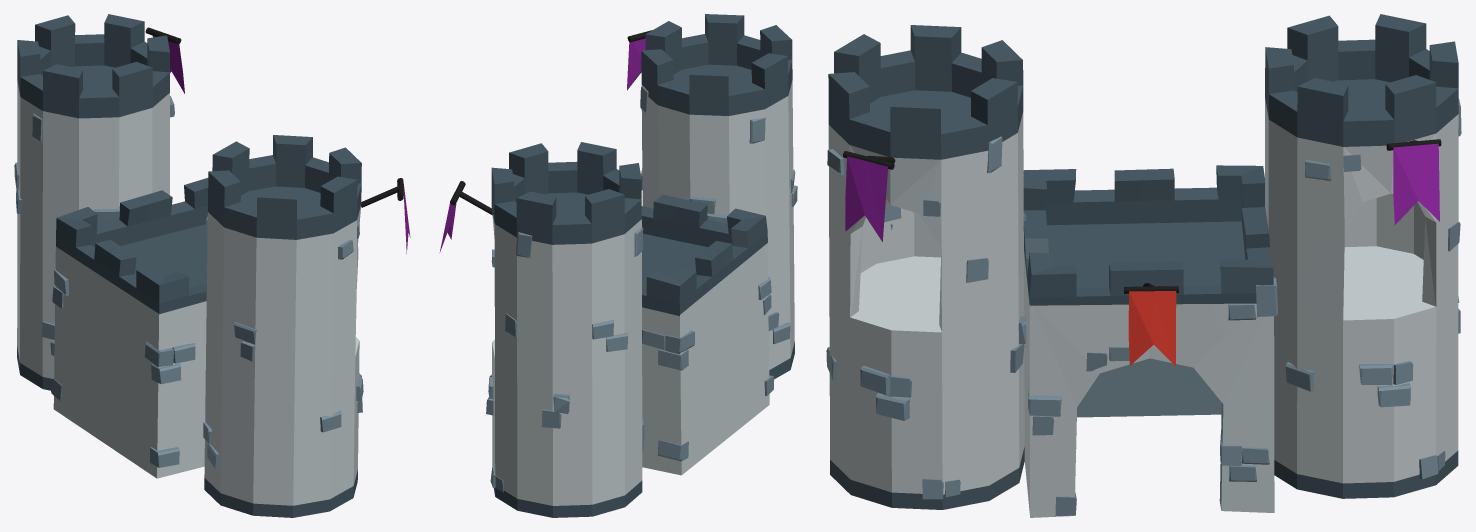
File: tower_lvl2.fbx
3 renders of one model, left to right at view 1: azimuth 30°, elevation 25°; view 2: azimuth 150°, elevation 25°; view 3: azimuth 270°, elevation 25°, orthographic. The views are drawn at different scales.
Parts seen in each view (by area): view 1: group1701565837.001; view 2: group1701565837.001; view 3: group1701565837.001.
Boxes of the visible parts, bbox=[...] form: group1701565837.001: bbox=[14, 14, 410, 517]; group1701565837.001: bbox=[439, 14, 797, 517]; group1701565837.001: bbox=[826, 14, 1461, 517].
Bounding box in the file's own units: 87.94 × 128 × 181.
